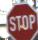Stop sign: (0, 0, 37, 39)
